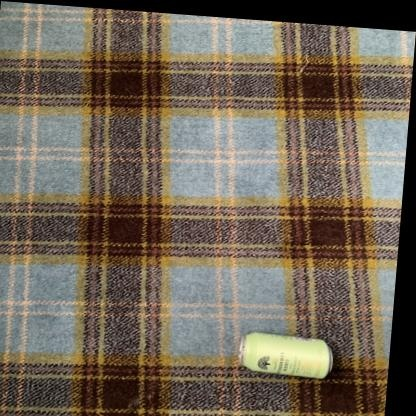trash: (240, 332, 332, 378)
